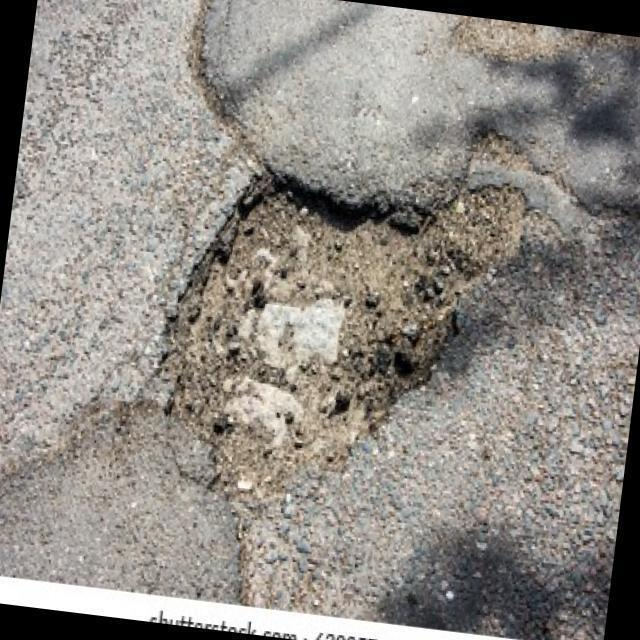pothole: (144, 146, 530, 540)
